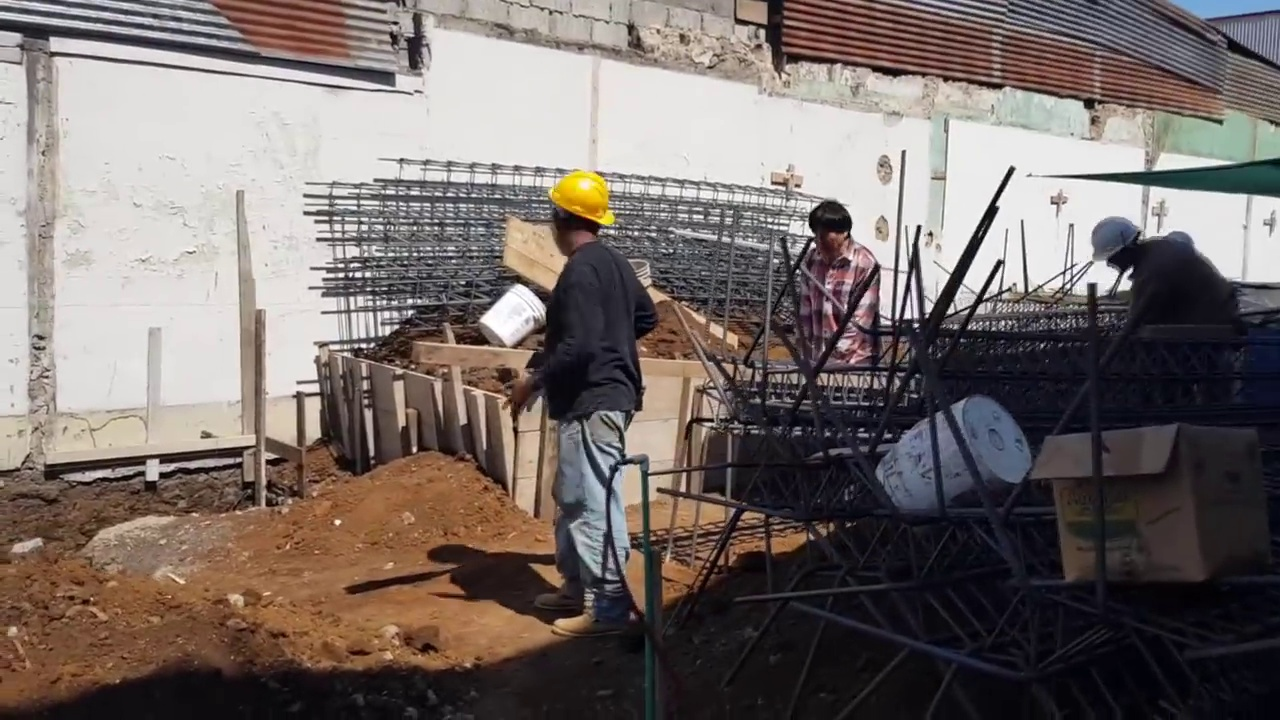helmet: (547, 173, 617, 224), (1088, 215, 1145, 263)
helmet-off: (807, 201, 857, 261)
helmet-on: (543, 171, 621, 263), (1088, 214, 1154, 273)
person: (510, 168, 656, 661), (1085, 220, 1236, 359), (794, 202, 884, 360)
